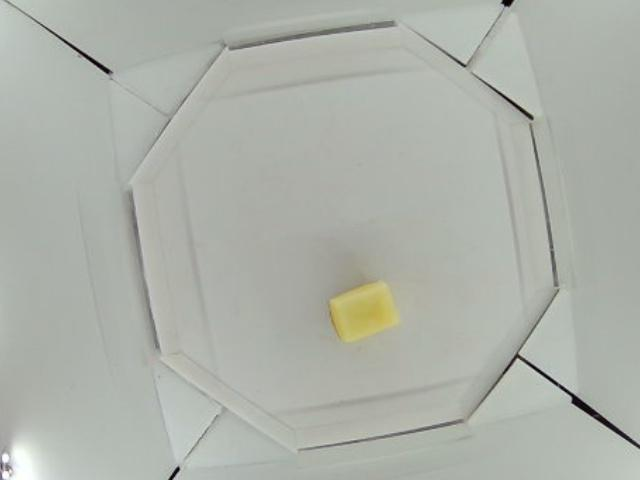Potato: (331, 281, 401, 340)
